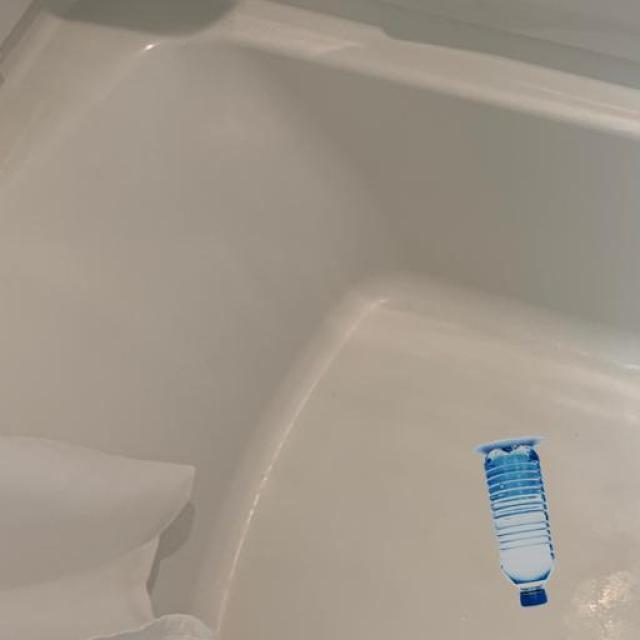bottle: (470, 425, 590, 612)
